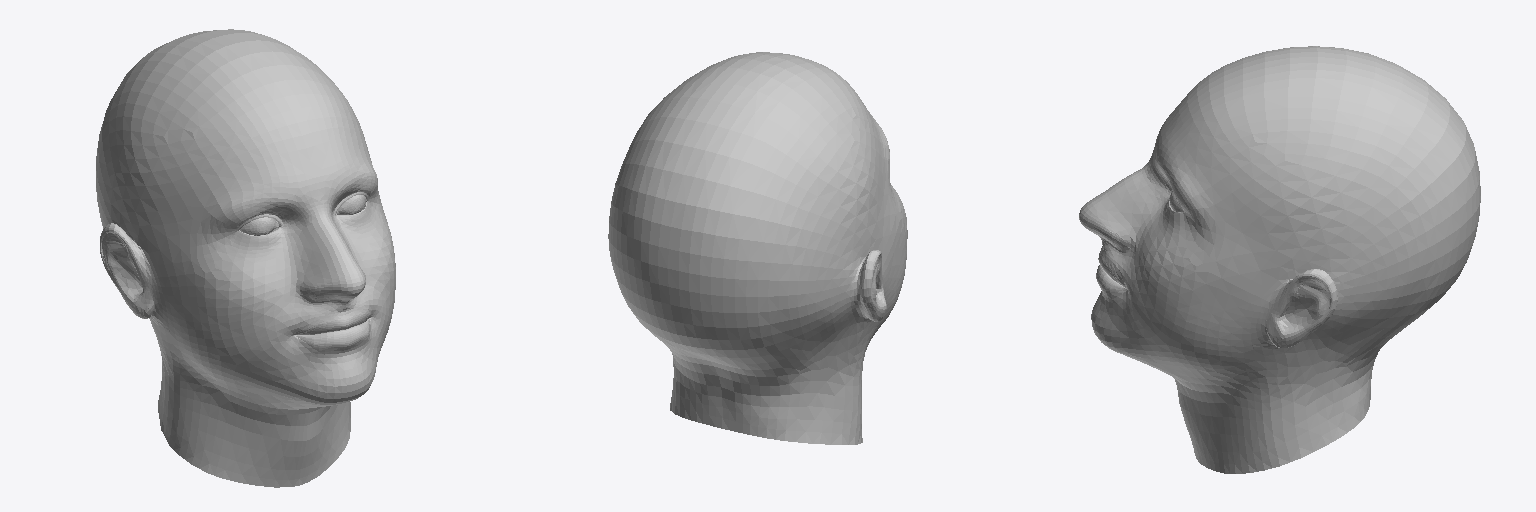
3 views of the same model, side by side, from view 1: azimuth 30°, elevation 25°; view 2: azimuth 150°, elevation 25°; view 3: azimuth 270°, elevation 25° (orthographic).
Parts seen in each view (by area): view 1: FaceGen; view 2: FaceGen; view 3: FaceGen.
Boxes of the visible parts, box(x1,y1,x2,y2) form: FaceGen: box(96, 29, 395, 487); FaceGen: box(608, 52, 907, 444); FaceGen: box(1079, 46, 1480, 473).
Bounding box in the file's own units: 191 × 279 × 256.